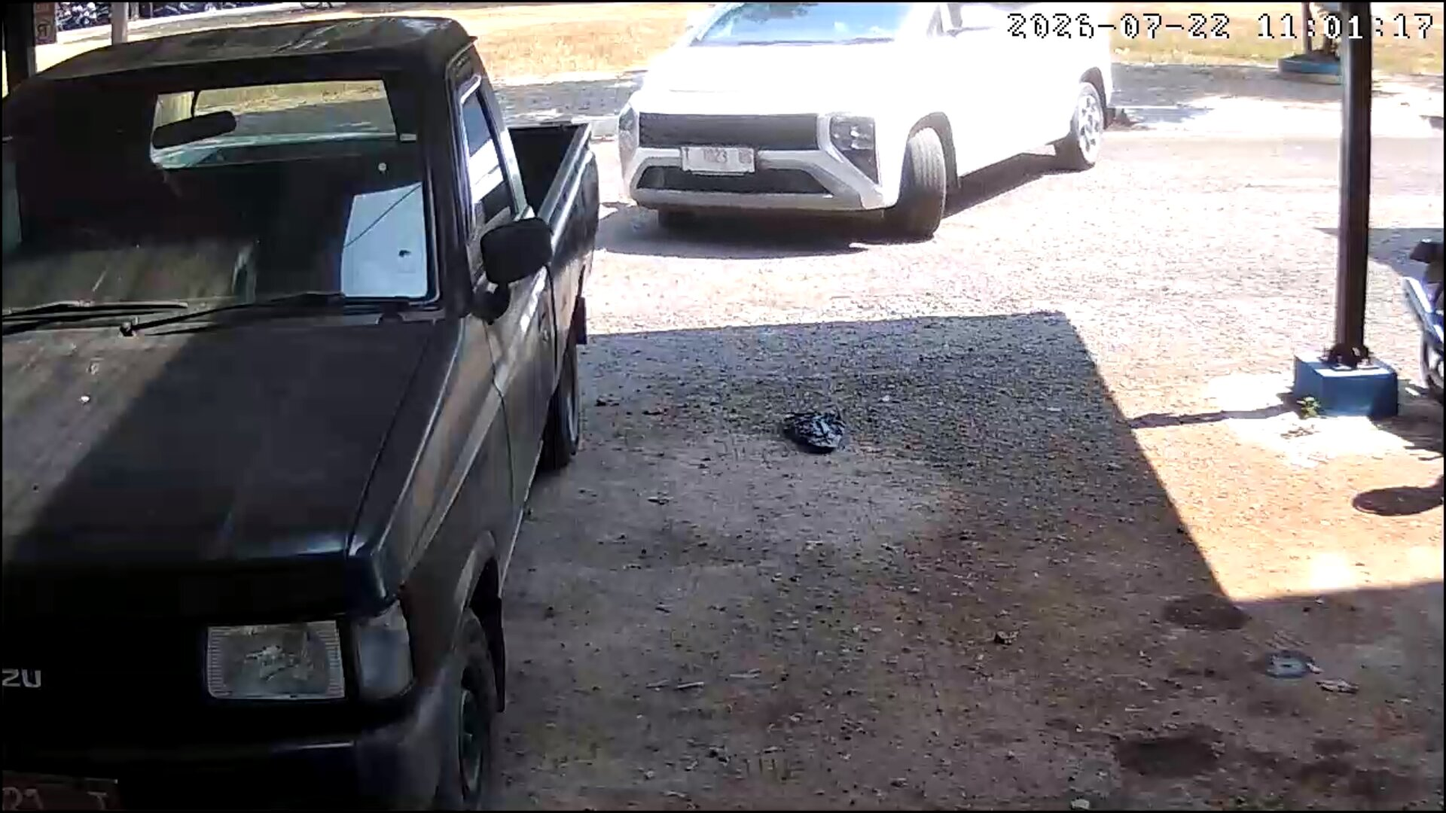plat nomor: (680, 146, 757, 174)
